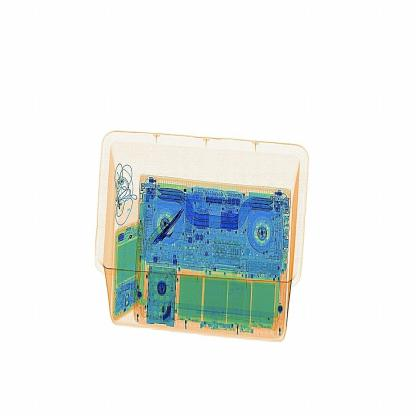pliers: (148, 198, 190, 256)
